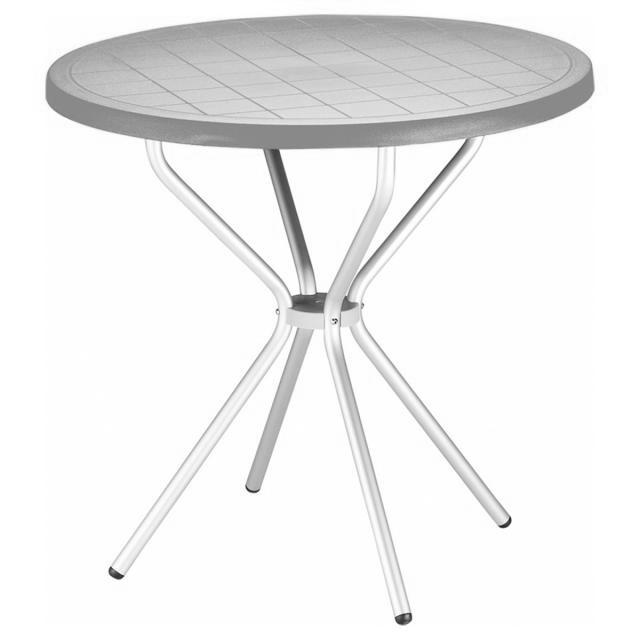table: (43, 19, 593, 626)
